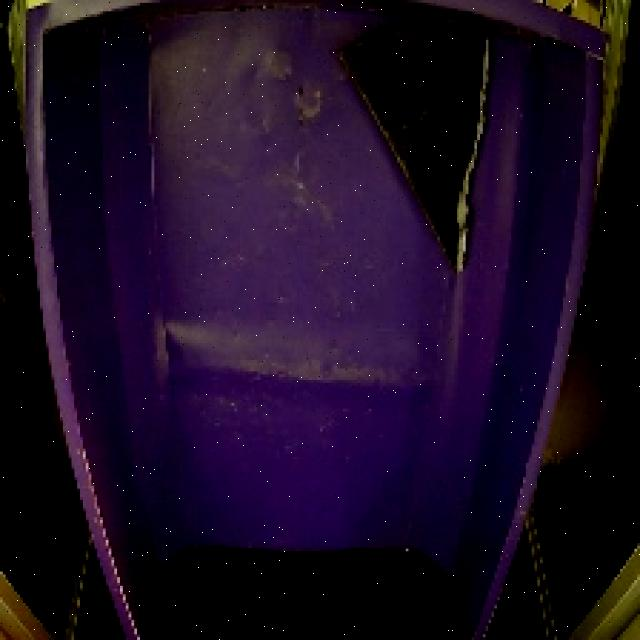china: (328, 18, 506, 288)
